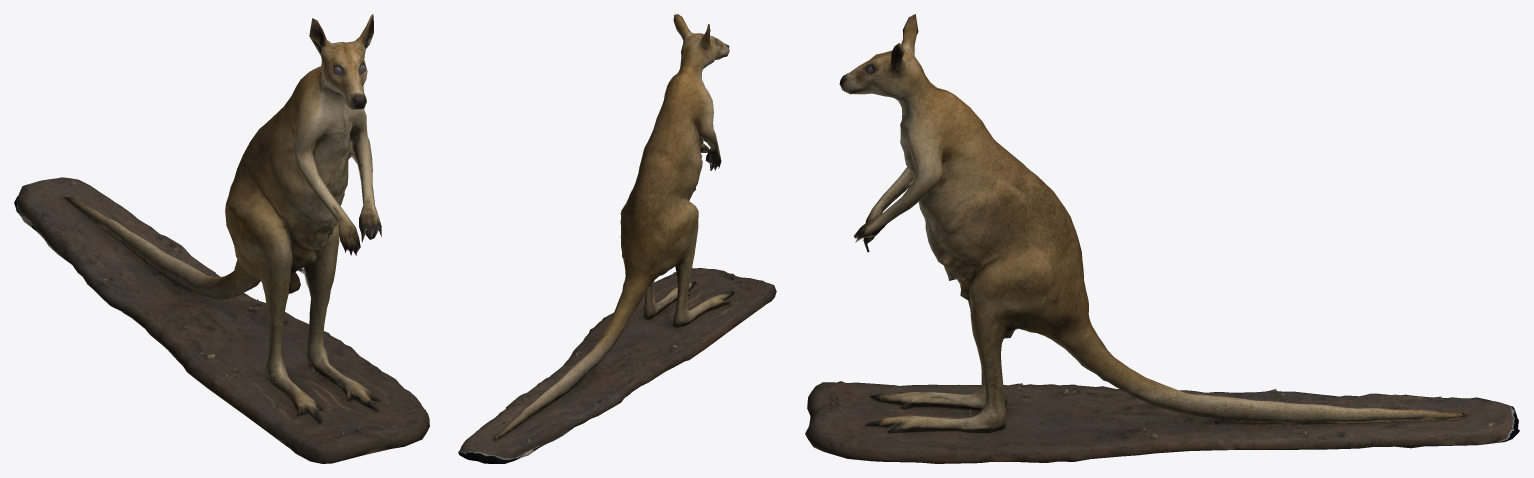
The picture shows the model from 3 angles, left to right: view 1: azimuth 30°, elevation 25°; view 2: azimuth 150°, elevation 25°; view 3: azimuth 270°, elevation 25°; orthographic projection. The views are drawn at different scales.
Visible parts, largest first — view 1: M32011_RedKangaroo_5KforSK01_2; view 2: M32011_RedKangaroo_5KforSK01_2; view 3: M32011_RedKangaroo_5KforSK01_2.
Part boxes in pixels (bbox=[...]): M32011_RedKangaroo_5KforSK01_2: bbox=[14, 14, 429, 463]; M32011_RedKangaroo_5KforSK01_2: bbox=[458, 14, 776, 463]; M32011_RedKangaroo_5KforSK01_2: bbox=[805, 14, 1519, 463].
Size of the model in its own units: 0.3382 by 0.8848 by 1.41.
2 materials, 1 textured.
